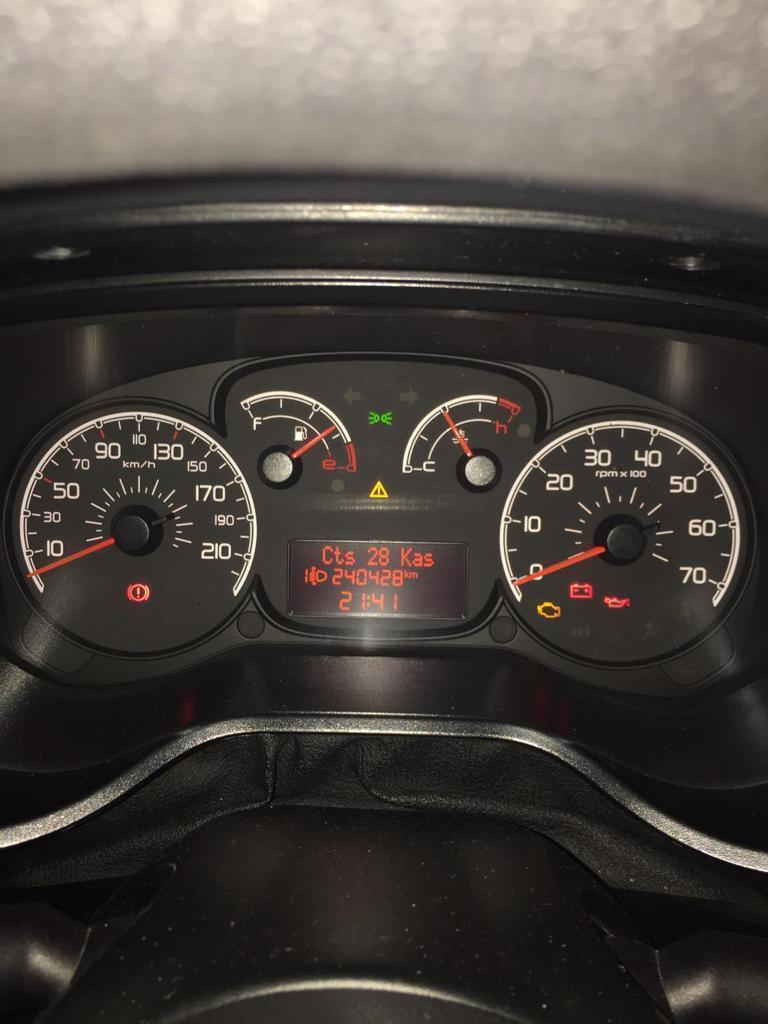0: (356, 568, 367, 586)
1: (391, 591, 399, 611), (359, 591, 365, 611), (304, 567, 308, 585)
2: (337, 589, 353, 612), (366, 546, 378, 566), (331, 567, 343, 586), (380, 568, 391, 586)
4: (371, 591, 384, 611), (344, 567, 355, 585), (368, 569, 379, 586)
8: (378, 546, 390, 565), (392, 568, 403, 587)
X: (399, 546, 412, 566), (321, 544, 333, 565), (333, 544, 344, 565), (423, 551, 435, 568), (344, 549, 356, 564), (412, 551, 422, 567), (403, 568, 409, 579), (366, 594, 370, 609), (410, 571, 417, 579)
odometer: (284, 534, 470, 621)
